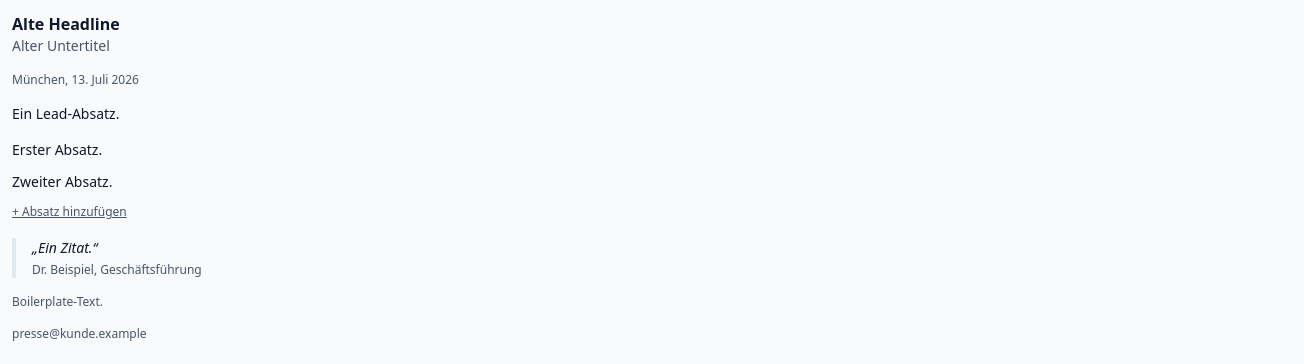
it: PressemitteilungEditor -- Optimistic UI und Rollback › Escape verwirft die Änderung, ohne die Server-Action aufzurufen
The image size is (1304, 364).
Press Enter in the button with aria-label "Überschrift", box [12,12,1292,36]
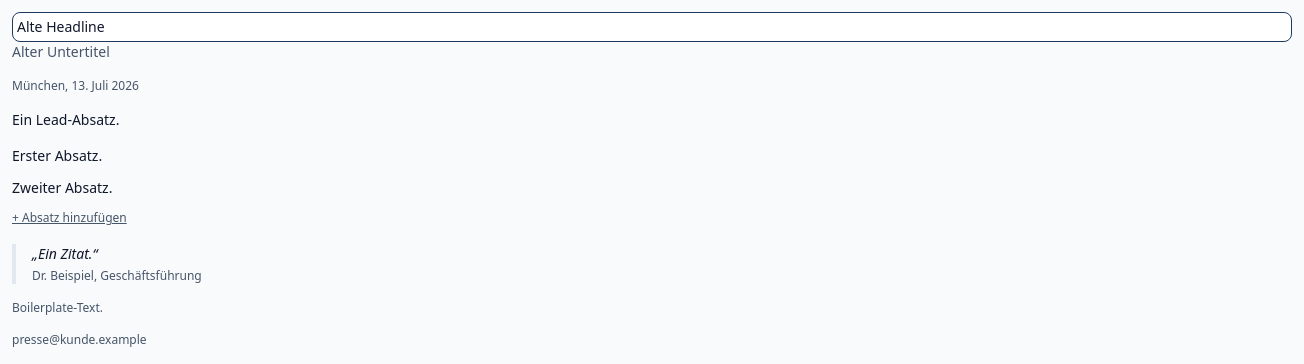
Replace the text in the field named "Überschrift" with "Verworfener Text" at point(652, 27), box [12,12,1292,42]
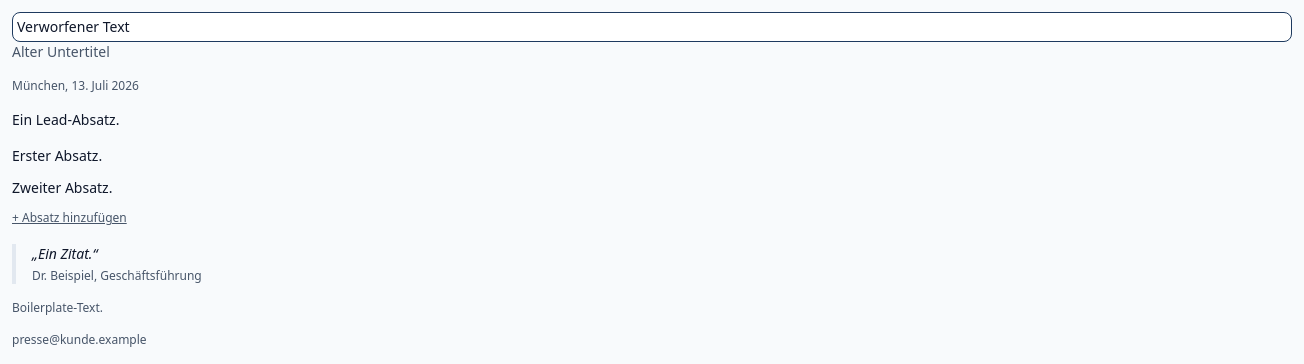
Press Escape in the field named "Überschrift", box [12,12,1292,42]
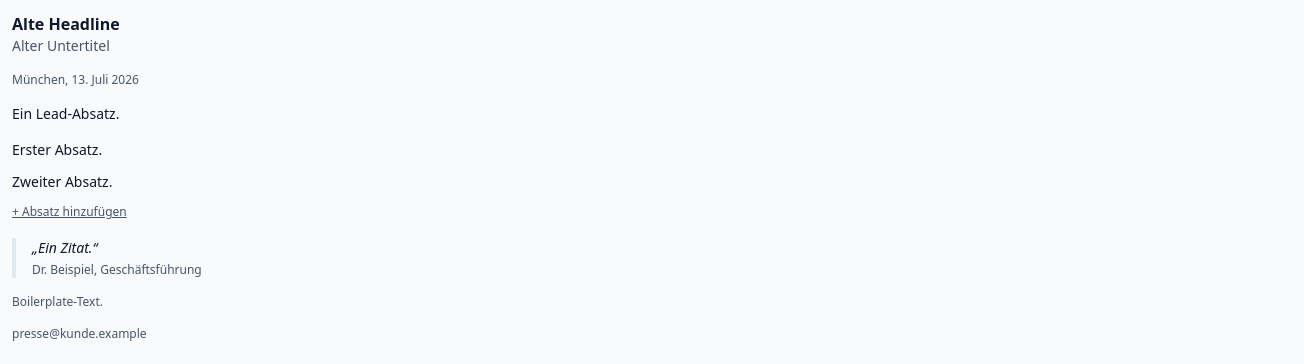
Expected: the heading "Alte Headline" is shown, [12,13,120,35]
